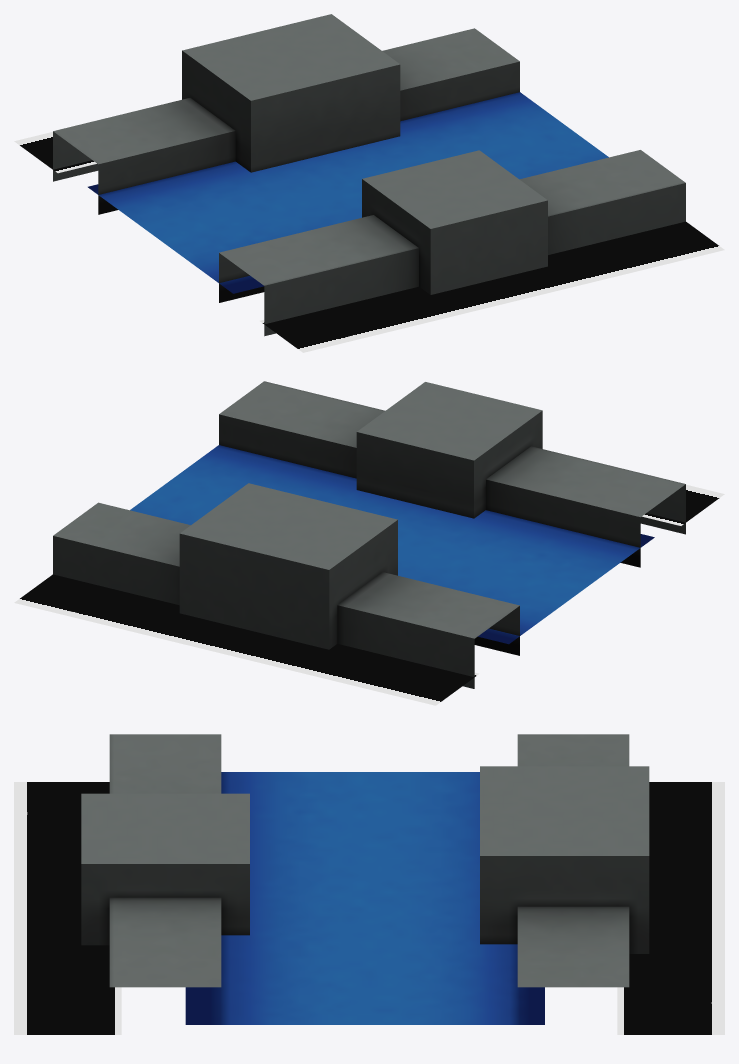
The model's file is asia_river.FBX.
The picture shows the model from 3 angles, top to bottom: view 1: azimuth 30°, elevation 25°; view 2: azimuth 150°, elevation 25°; view 3: azimuth 270°, elevation 25°; orthographic projection. The views are drawn at different scales.
Parts seen in each view (by area): view 1: asia_river, asia_river_soft_shadow; view 2: asia_river, asia_river_soft_shadow; view 3: asia_river, asia_river_soft_shadow.
Boxes of the visible parts, x1,y1,x2,y2 form: asia_river: (53, 14, 685, 336); asia_river_soft_shadow: (14, 132, 724, 352); asia_river: (53, 381, 685, 688); asia_river_soft_shadow: (14, 484, 724, 705); asia_river: (81, 734, 649, 1024); asia_river_soft_shadow: (14, 782, 724, 1034).
Size of the model in its own units: 1000 by 208 by 1187.
